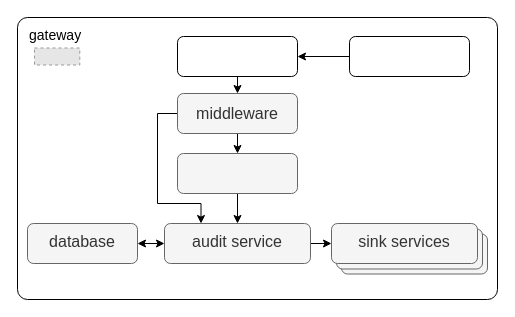
Image size: 515x317. Some labels were removed from this diagram. Grey dashed boxes stand in for pictures. Here are the shapes that lost their labels. From the top down, the centre of each, then its label:
At point (237, 56): "gRPC".
At point (409, 56): "{JSON}".
At point (237, 173): "module".
